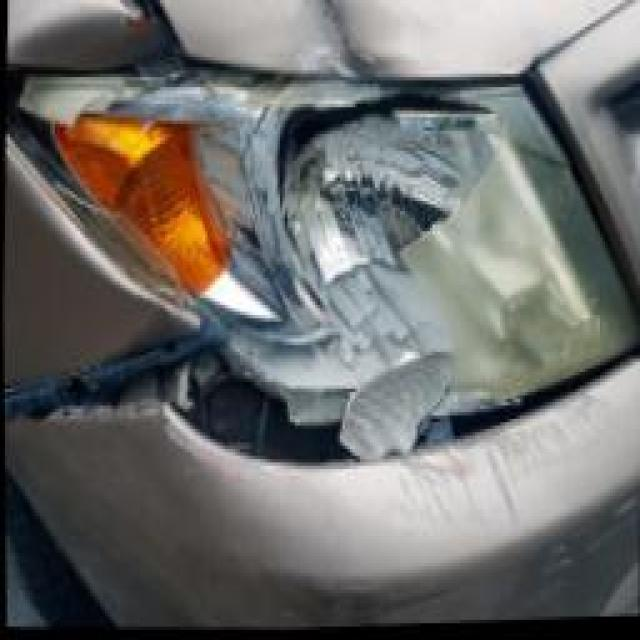Bonnet: (145, 0, 488, 89)
Bumper: (15, 379, 639, 639)
Light: (48, 60, 639, 417)
